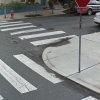Crosswalk: (3, 14, 56, 55)
